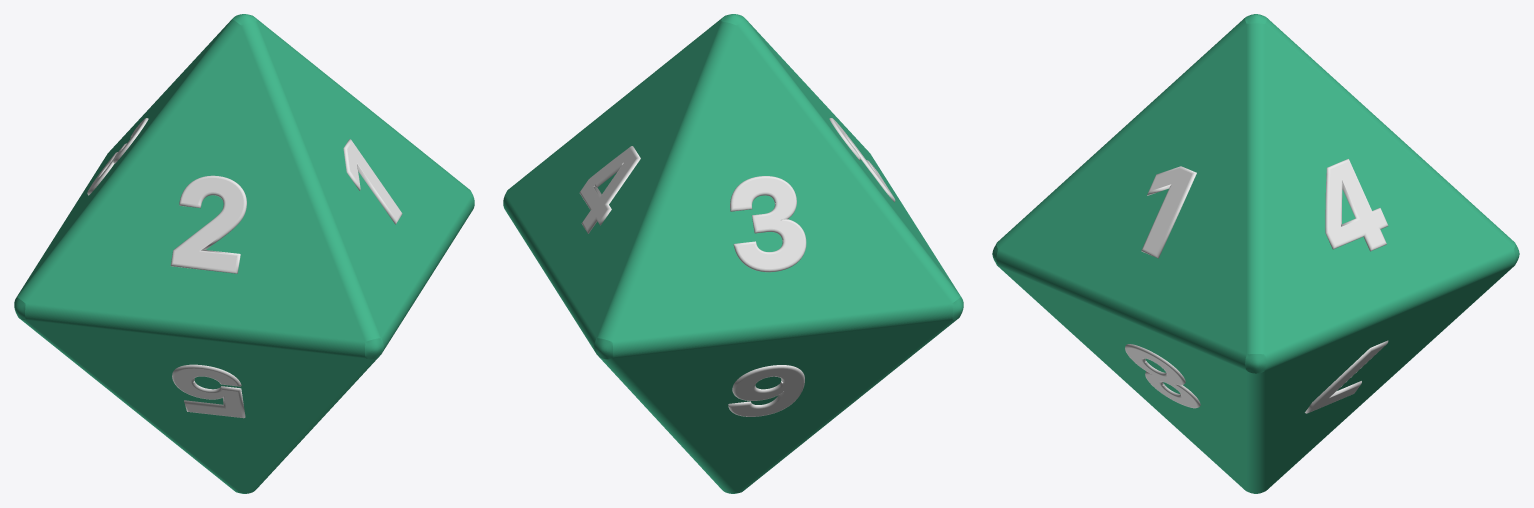
The picture shows the model from 3 angles, left to right: view 1: azimuth 30°, elevation 25°; view 2: azimuth 150°, elevation 25°; view 3: azimuth 270°, elevation 25°; orthographic projection.
Visible parts, largest first — view 1: D8.001; view 2: D8.001; view 3: D8.001.
Part boxes in pixels (bbox=[...]): D8.001: bbox=[14, 14, 474, 493]; D8.001: bbox=[503, 14, 963, 493]; D8.001: bbox=[992, 14, 1519, 493].
Size of the model in its own units: 1.91 by 1.91 by 1.91.
